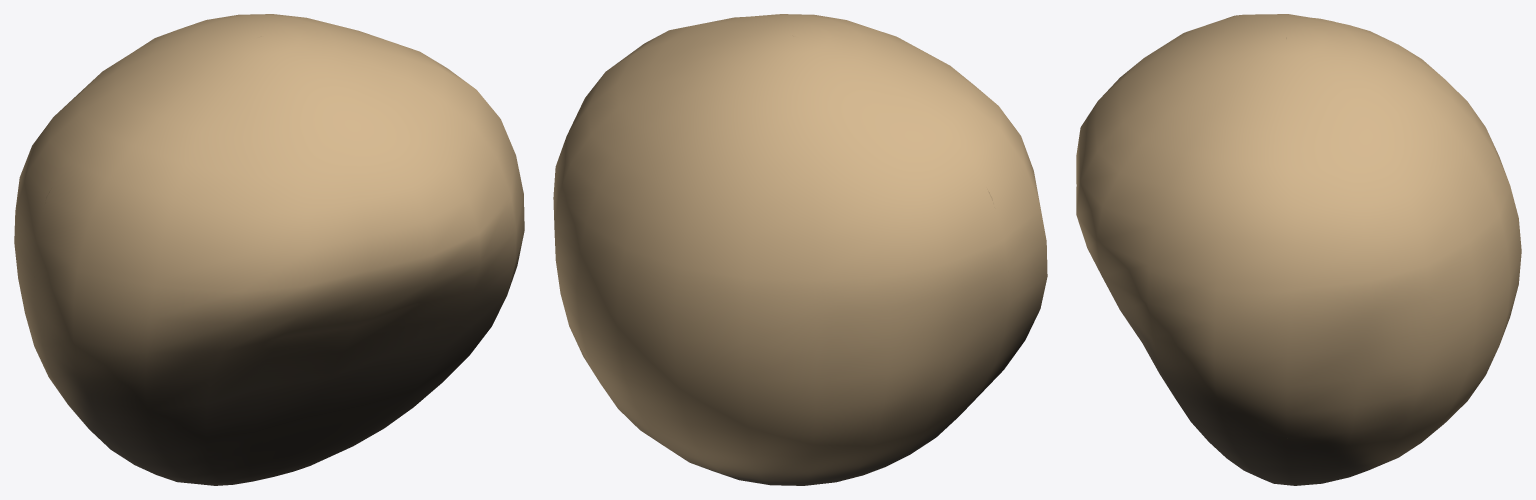
Rendered from Sart_1.fbx.
3 renders of one model, left to right at view 1: azimuth 30°, elevation 25°; view 2: azimuth 150°, elevation 25°; view 3: azimuth 270°, elevation 25°, orthographic. The views are drawn at different scales.
Parts seen in each view (by area): view 1: Sart_1; view 2: Sart_1; view 3: Sart_1.
Boxes of the visible parts, box(x1,y1,x2,y2) form: Sart_1: box(14, 14, 524, 485); Sart_1: box(553, 14, 1047, 485); Sart_1: box(1076, 14, 1521, 485).
Bounding box in the file's own units: 45.5 × 42.64 × 40.44.
1 material, 1 textured.
